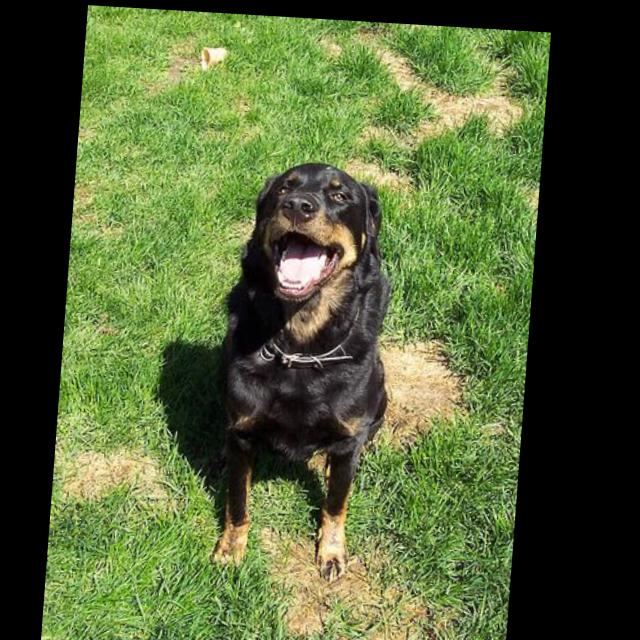rottweiler: (214, 154, 411, 581)
